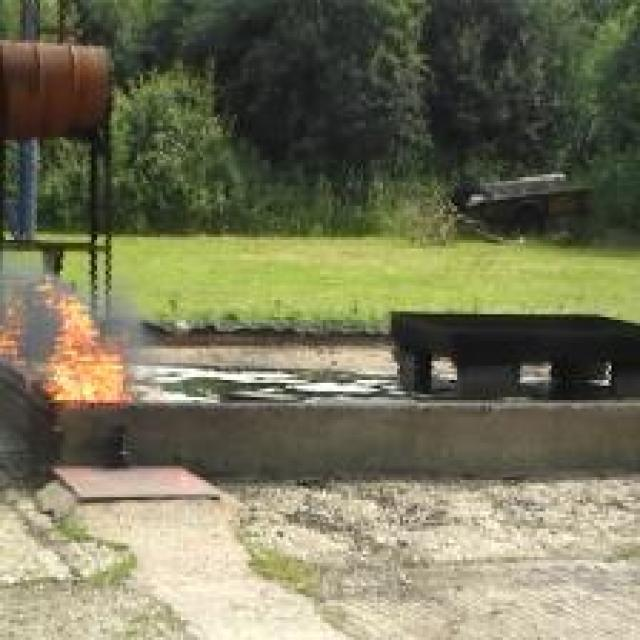Fire: (43, 277, 137, 400)
